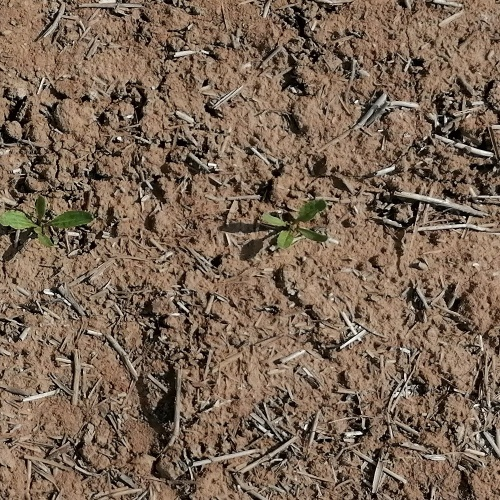beet: (0, 194, 95, 245), (263, 200, 329, 250)
